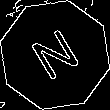N_SE: (24, 23, 86, 87)
